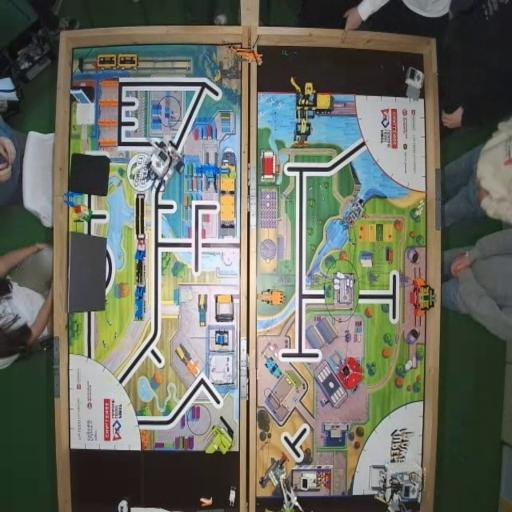lego_robot: (367, 463, 423, 512), (142, 138, 186, 194)
